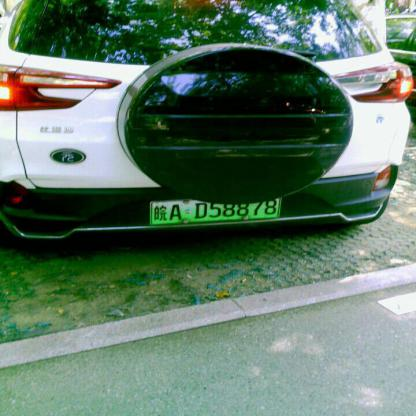lp: (150, 193, 281, 223)
